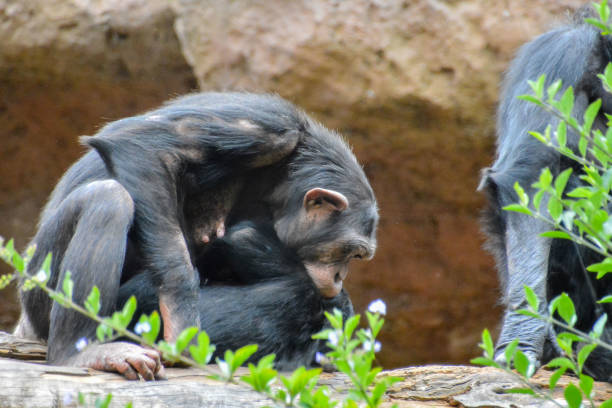chimpanzee: (277, 116, 387, 303)
